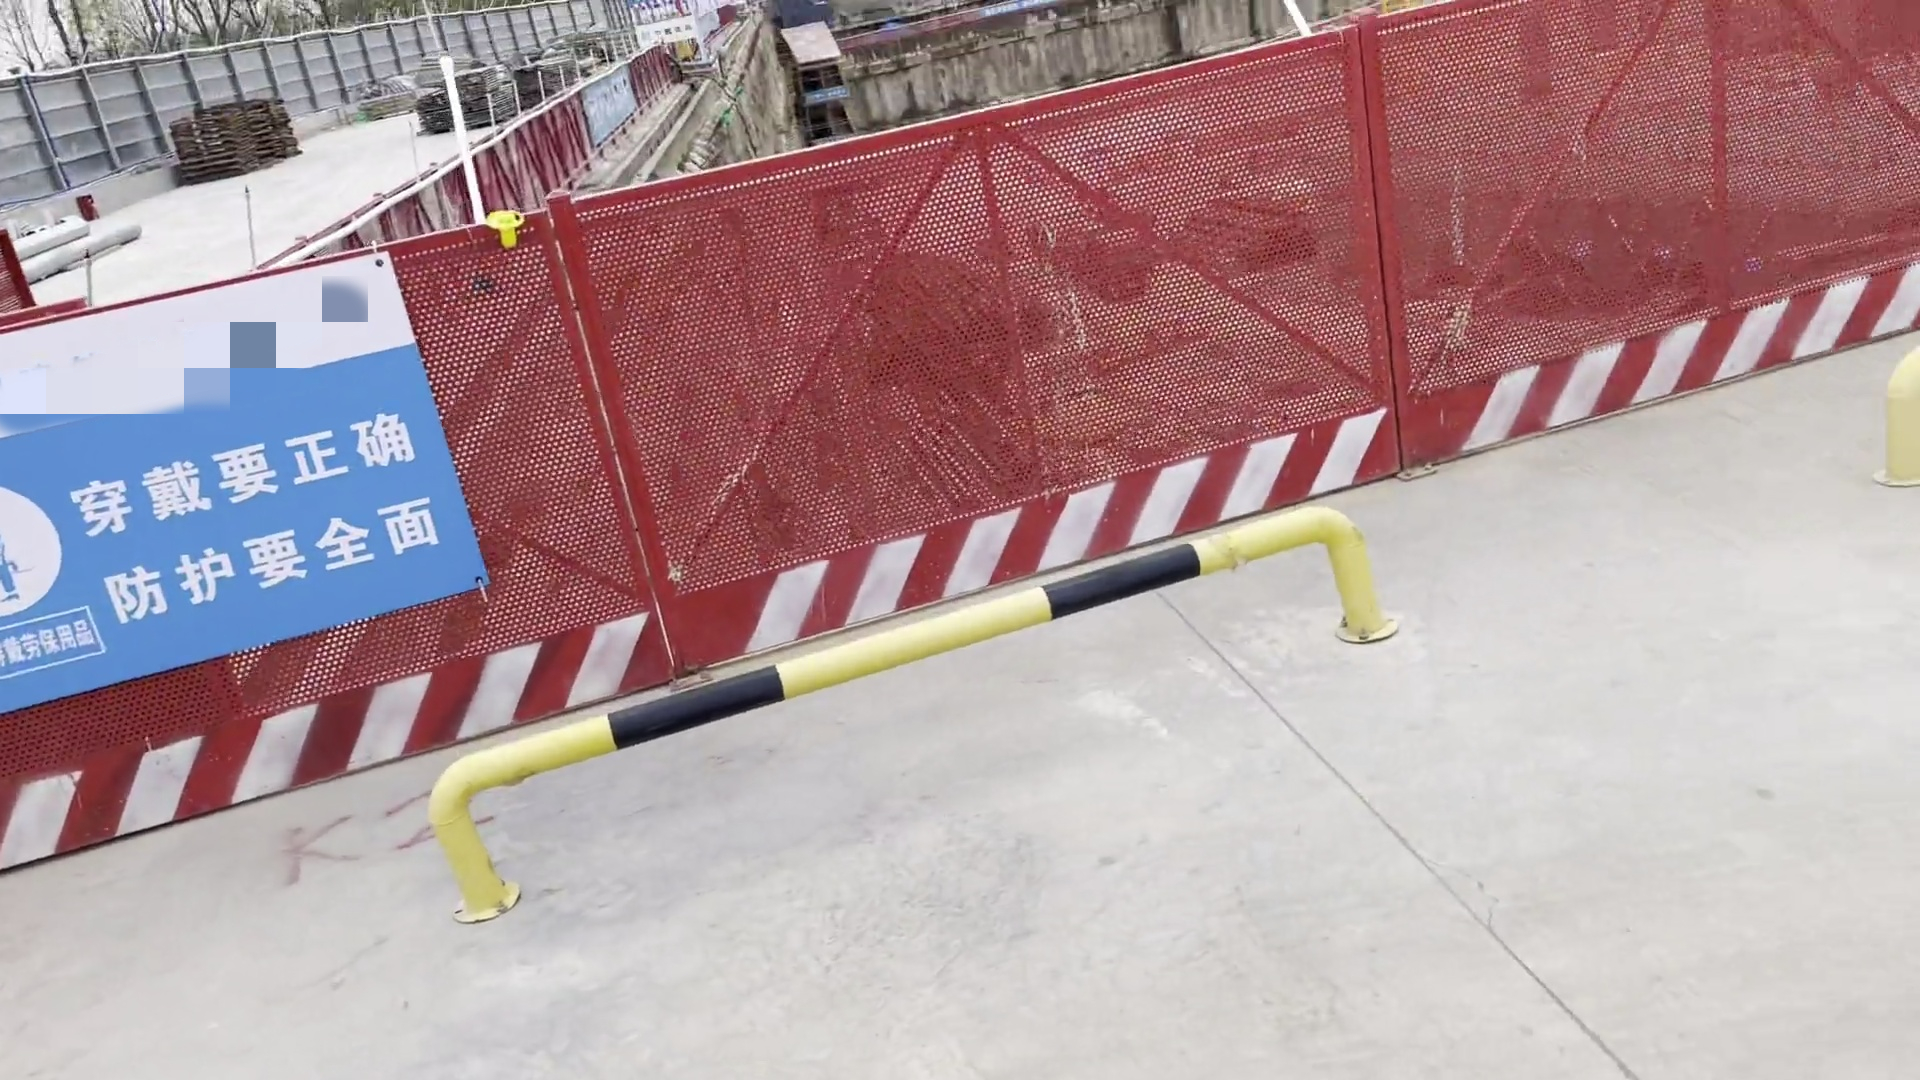fence: (1, 270, 1052, 899), (313, 80, 1515, 578), (1120, 1, 1920, 483)
slogan: (1, 249, 545, 716), (560, 54, 645, 156)
